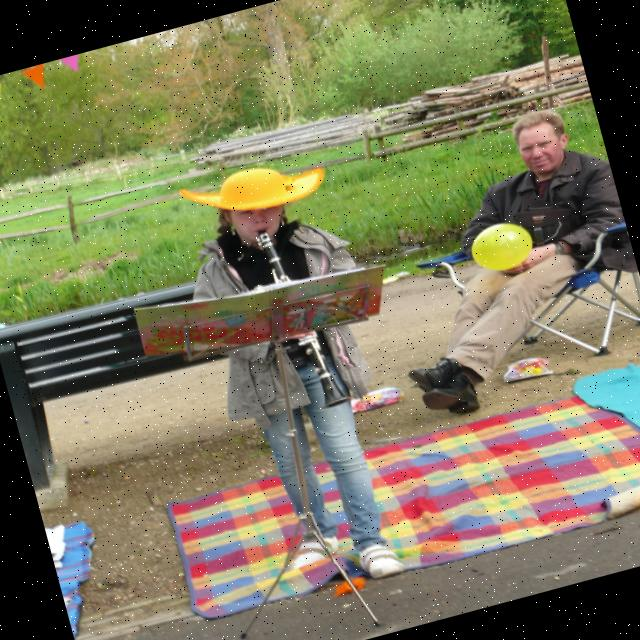clarinet: (256, 219, 353, 418)
